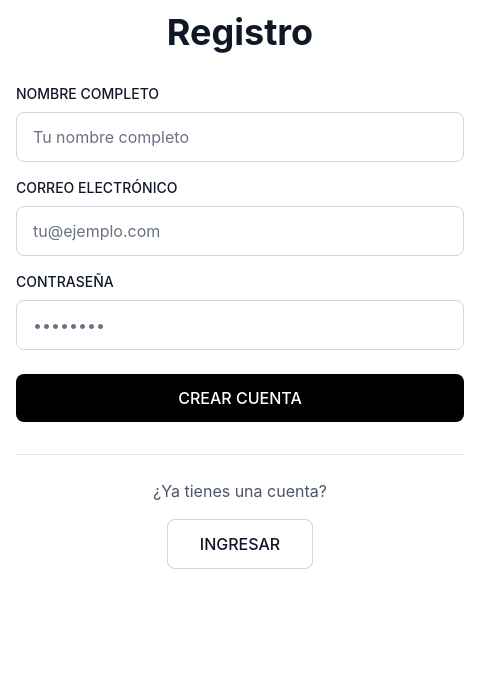
Test: RegisterForm › shows validation error for password missing requirements
In the password field labelled "CONTRASEÑA": (240, 325) [16,300,464,350], type "abcdef"
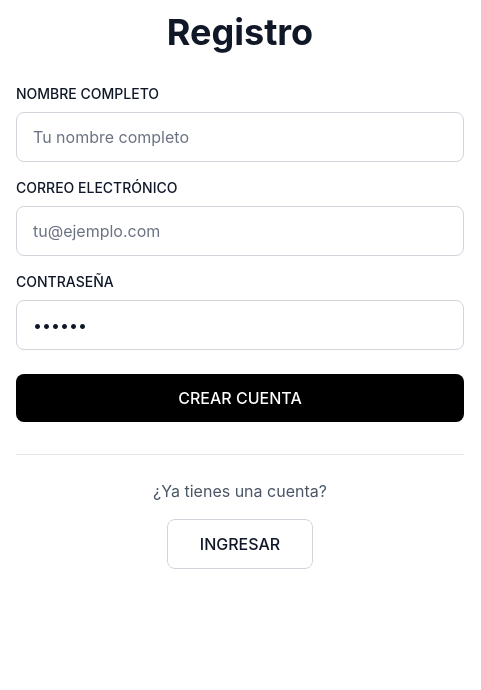
Click the button "CREAR CUENTA": (240, 398) [16,374,464,422]
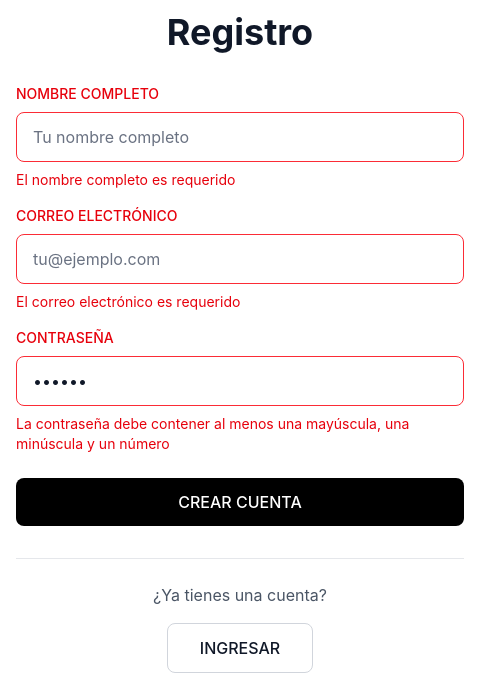
Check: the text "La contraseña debe contener al menos una mayúscula, una minúscula y un número" is shown, box [16,414,464,454]
